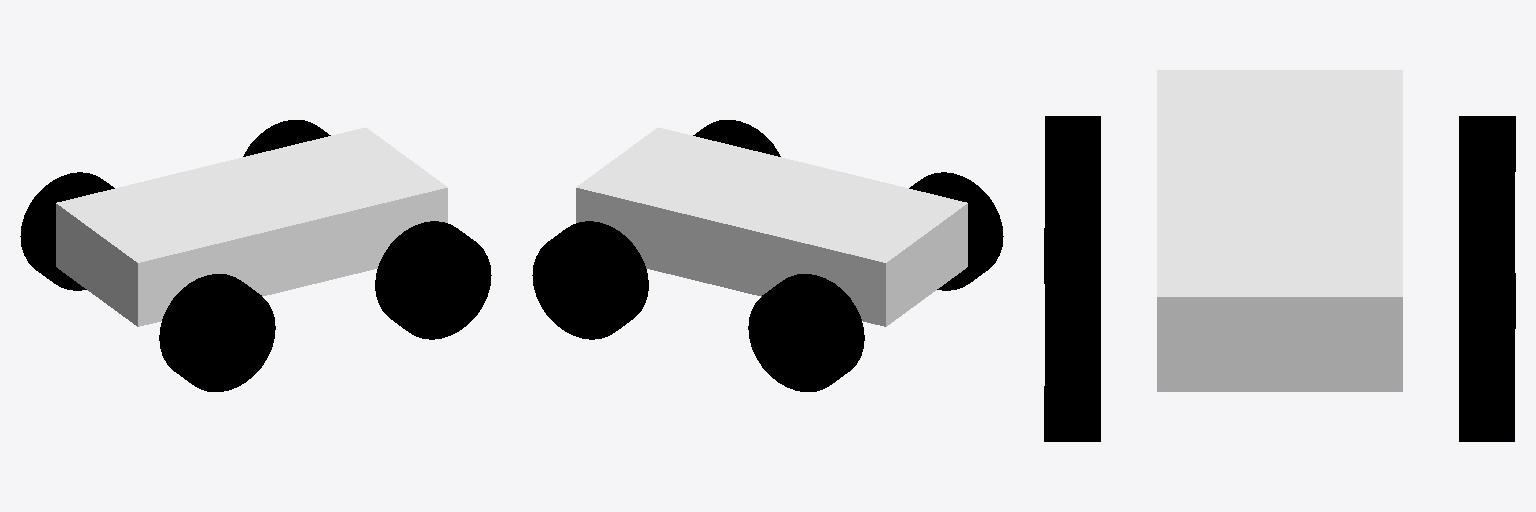
robot.urdf — diode_robot:
<?xml version="1.0" ?>
<robot name="diode_robot">

    <link name="base_link">
        <visual>
            <origin xyz=" 0.255 0 0.19" rpy="0 0 0" />
            <geometry>
                <box size="0.762 0.35 0.150"/>
            </geometry>
            <material name="white">
                <color rgba="1 1 255 1"/>
            </material>
        </visual>
    </link>   

    <joint name="left_wheel_joint" type="continuous">
        <origin xyz="0 0.295 0.12" rpy="1.57 0 0"/>
        <parent link="base_link"/>
        <child link="left_wheel_link"/>
        <axis xyz="0 1 0"/>
    </joint>

    <link name="left_wheel_link">
        <visual>
            <origin xyz="0 0 0" rpy="0 0 0" />
            <geometry>
                <cylinder radius="0.12" length = "0.08"/>
            </geometry>
            <material name="black">
                <color rgba="0 0 0 1"/>
            </material>
        </visual>
    </link>

    <joint name="right_wheel_joint" type="continuous">
        <origin xyz="0 -0.295 0.12" rpy="1.57 0 0"/>
        <parent link="base_link"/>
        <child link="right_wheel_link"/>
        <axis xyz="0 1 0"/>
    </joint>

    <link name="right_wheel_link">
        <visual>
            <origin xyz="0 0 0" rpy="0 0 0" />
            <geometry>
                <cylinder radius="0.12" length = "0.08"/>
            </geometry>
            <material name="black">
                <color rgba="0 0 0 1"/>
            </material>
        </visual>
    </link>

      <joint name="left_front_joint" type="continuous">
        <origin xyz="0.53 0.295 0.12" rpy="1.57 0 0"/>
        <parent link="base_link"/>
        <child link="left_front_link"/>
        <axis xyz="0 1 0"/>
    </joint>

    <link name="left_front_link">
        <visual>
            <origin xyz="0 0 0" rpy="0 0 0" />
            <geometry>
                <cylinder radius="0.12" length = "0.08"/>
            </geometry>
            <material name="black">
                <color rgba="0 0 0 1"/>
            </material>
        </visual>
    </link>

    <joint name="right_front_joint" type="continuous">
        <origin xyz="0.53 -0.295 0.12" rpy="1.57 0 0"/>
        <parent link="base_link"/>
        <child link="right_front_link"/>
        <axis xyz="0 1 0"/>
    </joint>

    <link name="right_front_link">
        <visual>
            <origin xyz="0 0 0" rpy="0 0 0" />
            <geometry>
                <cylinder radius="0.12" length = "0.08"/>
            </geometry>
            <material name="black">
                <color rgba="0 0 0 1"/>
            </material>
        </visual>
    </link>


</robot>

--- What the picture shows (computed from the rendered views, not written in the file) ---
3 views of the same robot in one strip: view 1: azimuth 30°, elevation 25°; view 2: azimuth 150°, elevation 25°; view 3: azimuth 270°, elevation 25° (orthographic).
Robot: diode_robot — 5 links, 4 joints (4 continuous); root link base_link; default pose: all joints at 0.
Links seen in each view (by area): view 1: base_link, right_wheel_link, right_front_link, left_wheel_link, left_front_link; view 2: base_link, left_wheel_link, left_front_link, right_wheel_link, right_front_link; view 3: base_link, left_front_link, right_front_link, left_wheel_link, right_wheel_link.
Boxes of the visible links, left/top/right/bottom form: base_link: left=56, top=127, right=447, bottom=326; right_wheel_link: left=159, top=274, right=275, bottom=391; right_front_link: left=375, top=221, right=491, bottom=339; left_wheel_link: left=20, top=172, right=114, bottom=290; left_front_link: left=243, top=120, right=330, bottom=156; base_link: left=576, top=127, right=967, bottom=326; left_wheel_link: left=748, top=274, right=864, bottom=391; left_front_link: left=532, top=221, right=648, bottom=339; right_wheel_link: left=909, top=172, right=1003, bottom=290; right_front_link: left=693, top=120, right=780, bottom=156; base_link: left=1157, top=70, right=1402, bottom=391; left_front_link: left=1459, top=273, right=1515, bottom=441; right_front_link: left=1044, top=273, right=1100, bottom=441; left_wheel_link: left=1459, top=116, right=1515, bottom=272; right_wheel_link: left=1044, top=116, right=1100, bottom=283.
Bounding box of the posed robot: 0.776 × 0.6702 × 0.265 m (x, y, z).
Geometry: primitives only (box / cylinder / sphere), no mesh files.